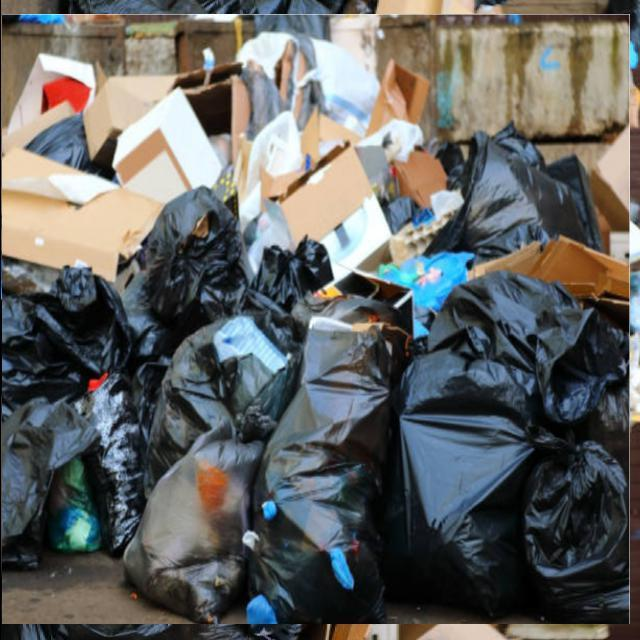Trashbag: (276, 323, 412, 623), (410, 276, 628, 424), (402, 406, 534, 606), (136, 441, 272, 619), (0, 265, 168, 400), (444, 136, 609, 273), (516, 410, 632, 602), (155, 311, 287, 447), (143, 199, 244, 315), (88, 384, 150, 558)
